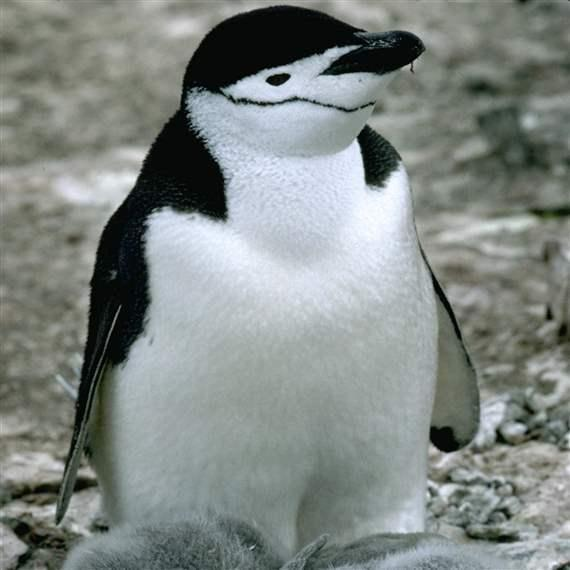Penguin: (56, 6, 478, 557)
